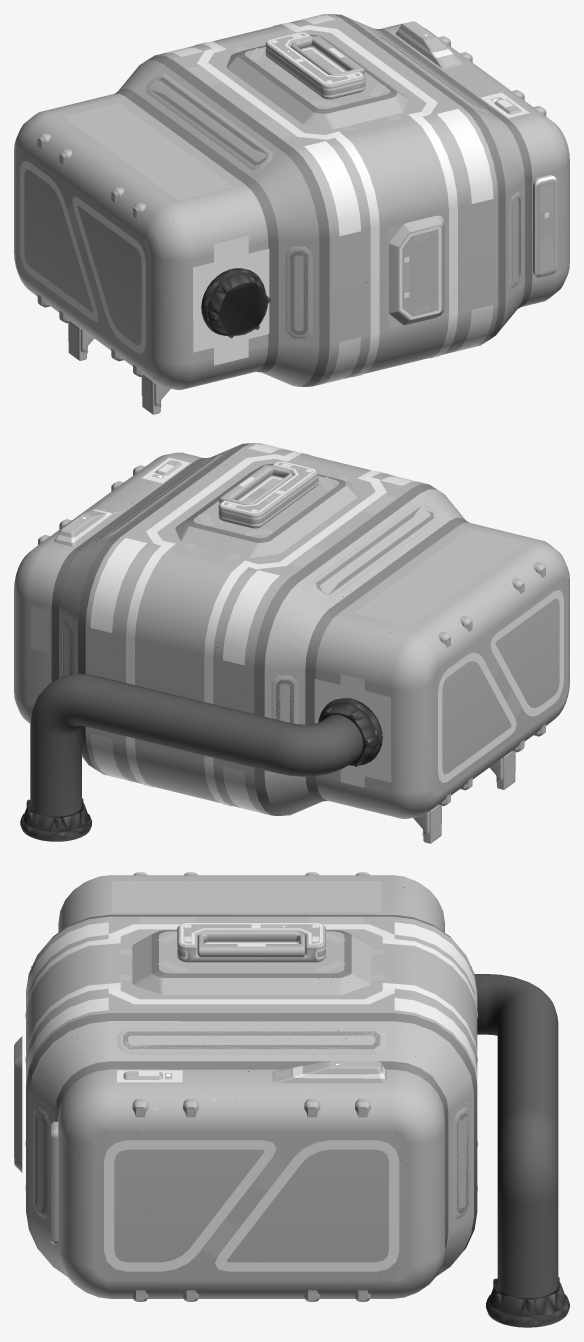
Rendered from SM_Construction_4_Merged.fbx.
3 views of the same model, one above another, from view 1: azimuth 30°, elevation 25°; view 2: azimuth 150°, elevation 25°; view 3: azimuth 270°, elevation 25° (orthographic). The views are drawn at different scales.
Visible parts, largest first — view 1: SM_Construction_4_Merged_LOD0; view 2: SM_Construction_4_Merged_LOD0; view 3: SM_Construction_4_Merged_LOD0.
Boxes of the visible parts, x1=… form: SM_Construction_4_Merged_LOD0: x1=14, y1=14, x2=569, y2=414; SM_Construction_4_Merged_LOD0: x1=14, y1=443, x2=569, y2=843; SM_Construction_4_Merged_LOD0: x1=14, y1=872, x2=569, y2=1327.
Bounding box in the file's own units: 421 × 415 × 267.
